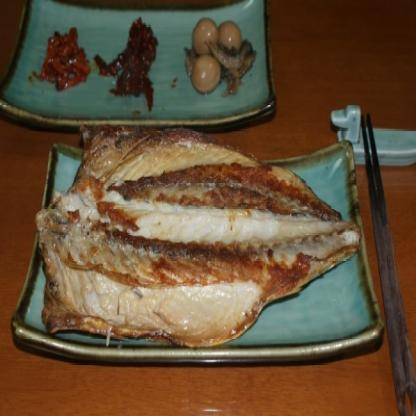Peixe: (22, 132, 376, 348)
